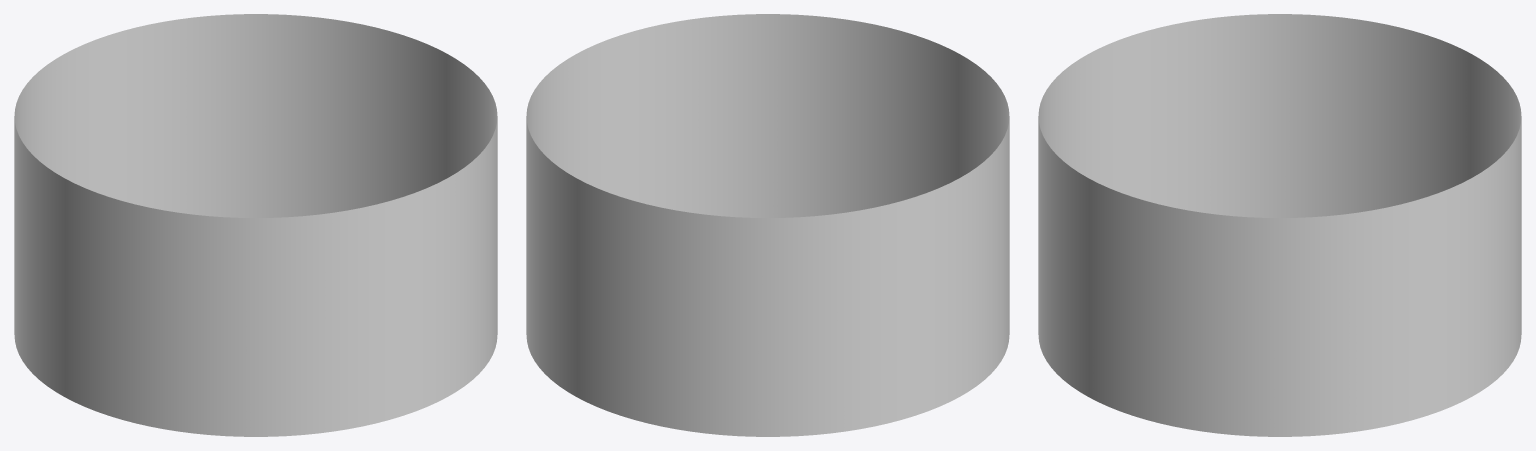
File: hush_wall.glb
3 renders of one model, left to right at view 1: azimuth 30°, elevation 25°; view 2: azimuth 150°, elevation 25°; view 3: azimuth 270°, elevation 25°, orthographic.
Parts seen in each view (by area): view 1: hush_wall; view 2: hush_wall; view 3: hush_wall.
Boxes of the visible parts, bbox=[...] form: hush_wall: bbox=[14, 14, 497, 436]; hush_wall: bbox=[526, 14, 1009, 436]; hush_wall: bbox=[1038, 14, 1521, 436].
Bounding box in the file's own units: 2 × 1 × 2.
Materials: 1 (1 with a texture image).
